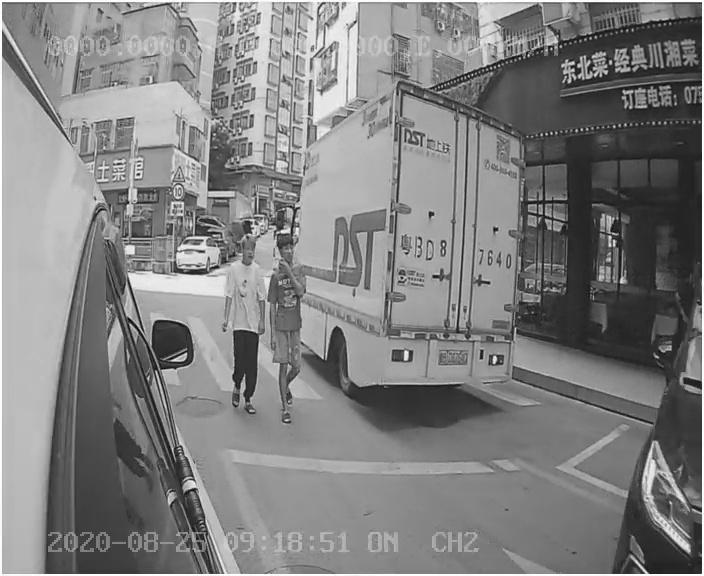person: (256, 236, 329, 428), (208, 229, 272, 417)
